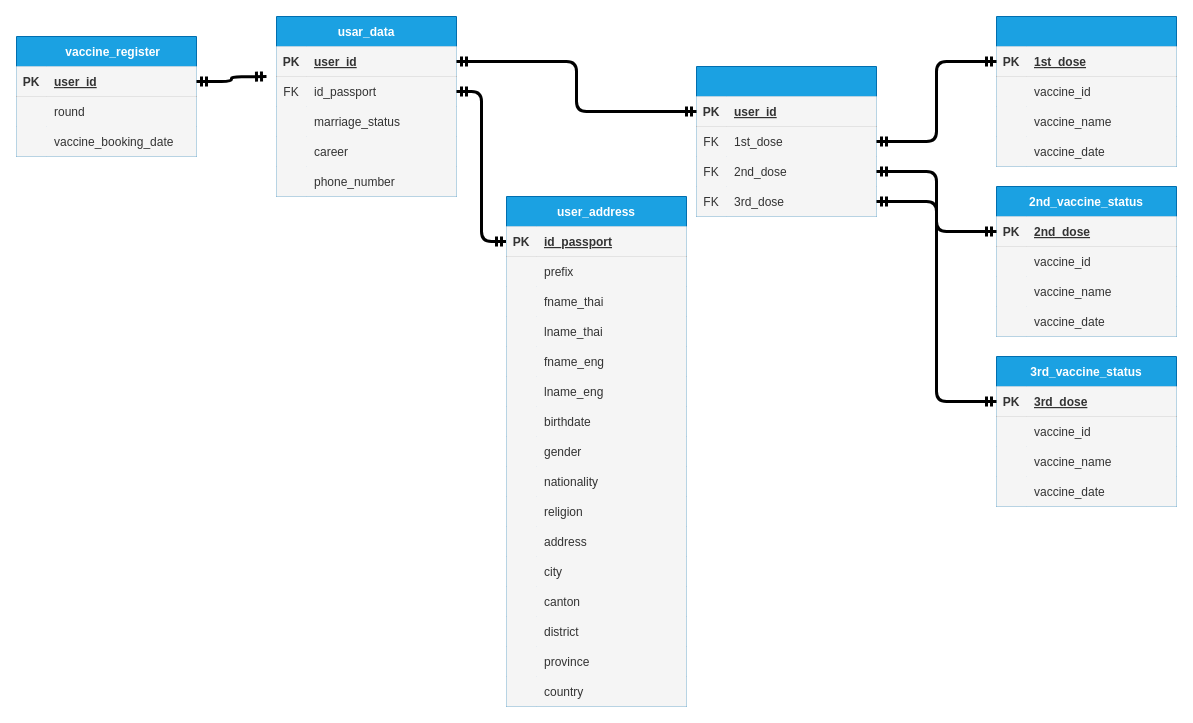
Image size: 1193x723. Some labels were removed from this diagram. The box of each missing label's shape, as (x1, y1, x2, y2) in pixels:
1st_vaccine_status: (996, 16, 1176, 166)
vaccine_status: (696, 66, 876, 216)
